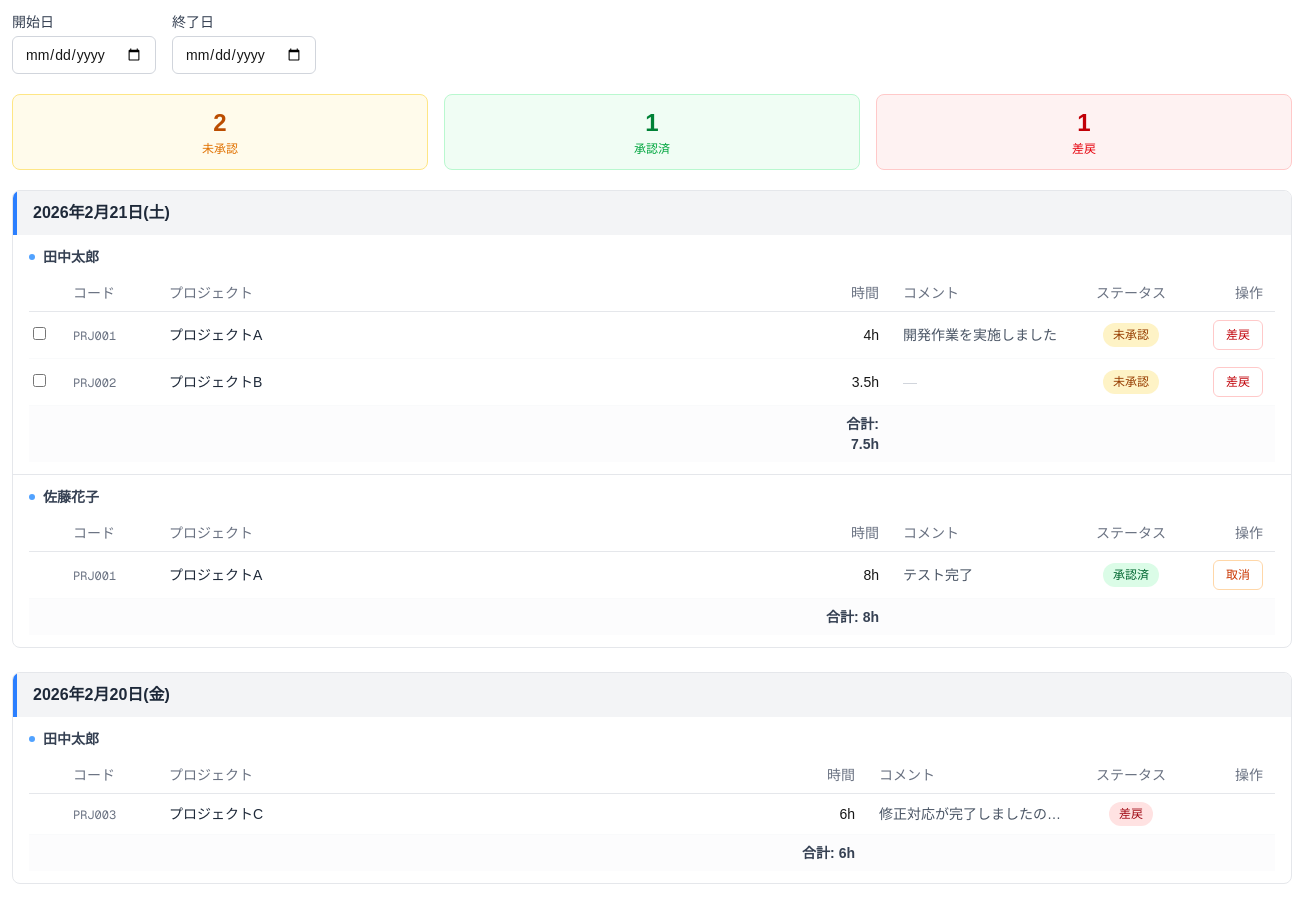
Test case: DailyApprovalDashboard › Floating Error Bar › shows error in floating bar when bulk approve fails
The image size is (1292, 912).
Click the 1st checkbox.
click(40, 334)  # box [33,327,46,340]
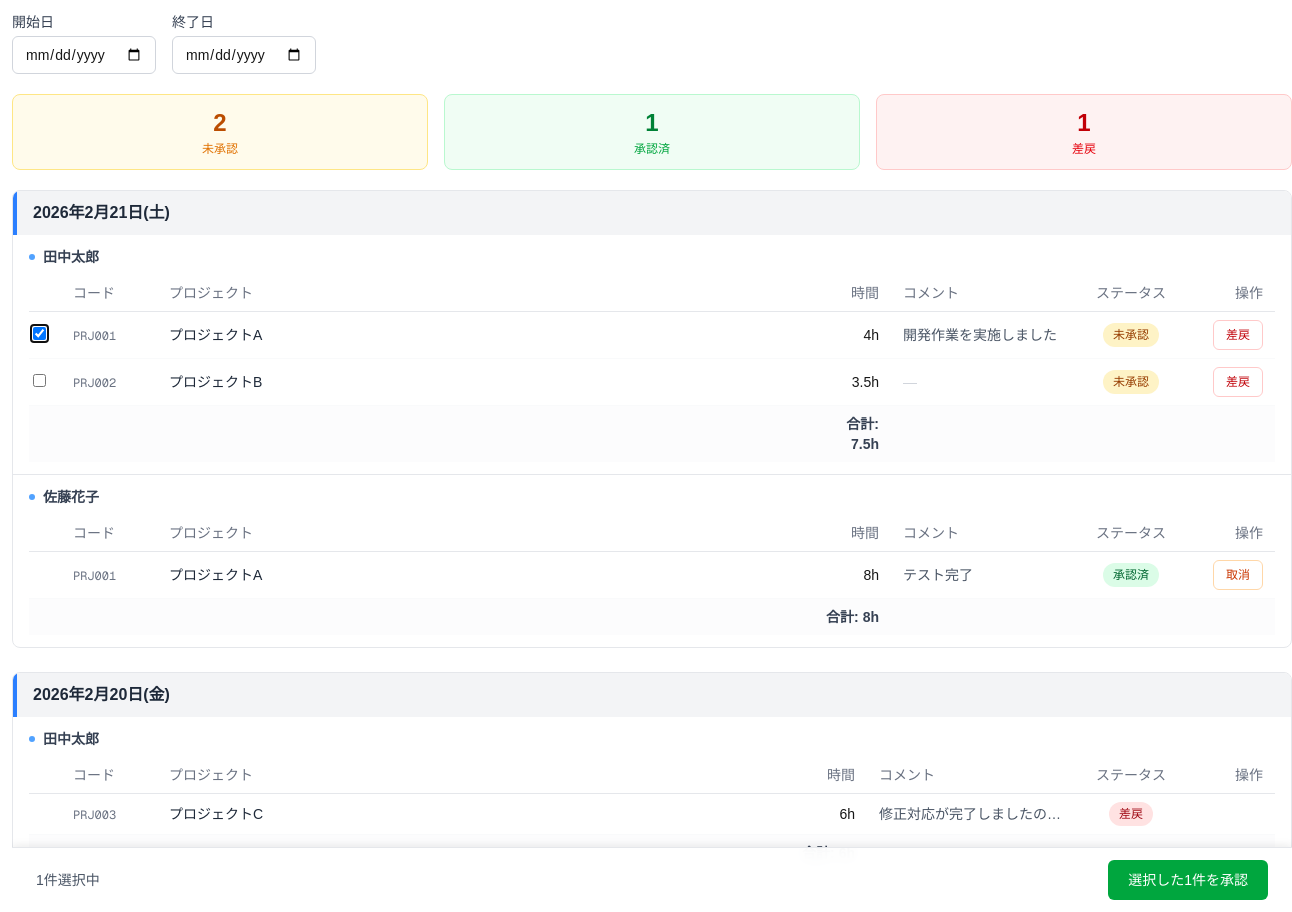
Click the button "選択した1件を承認".
click(1188, 880)  # box [1108,860,1268,900]
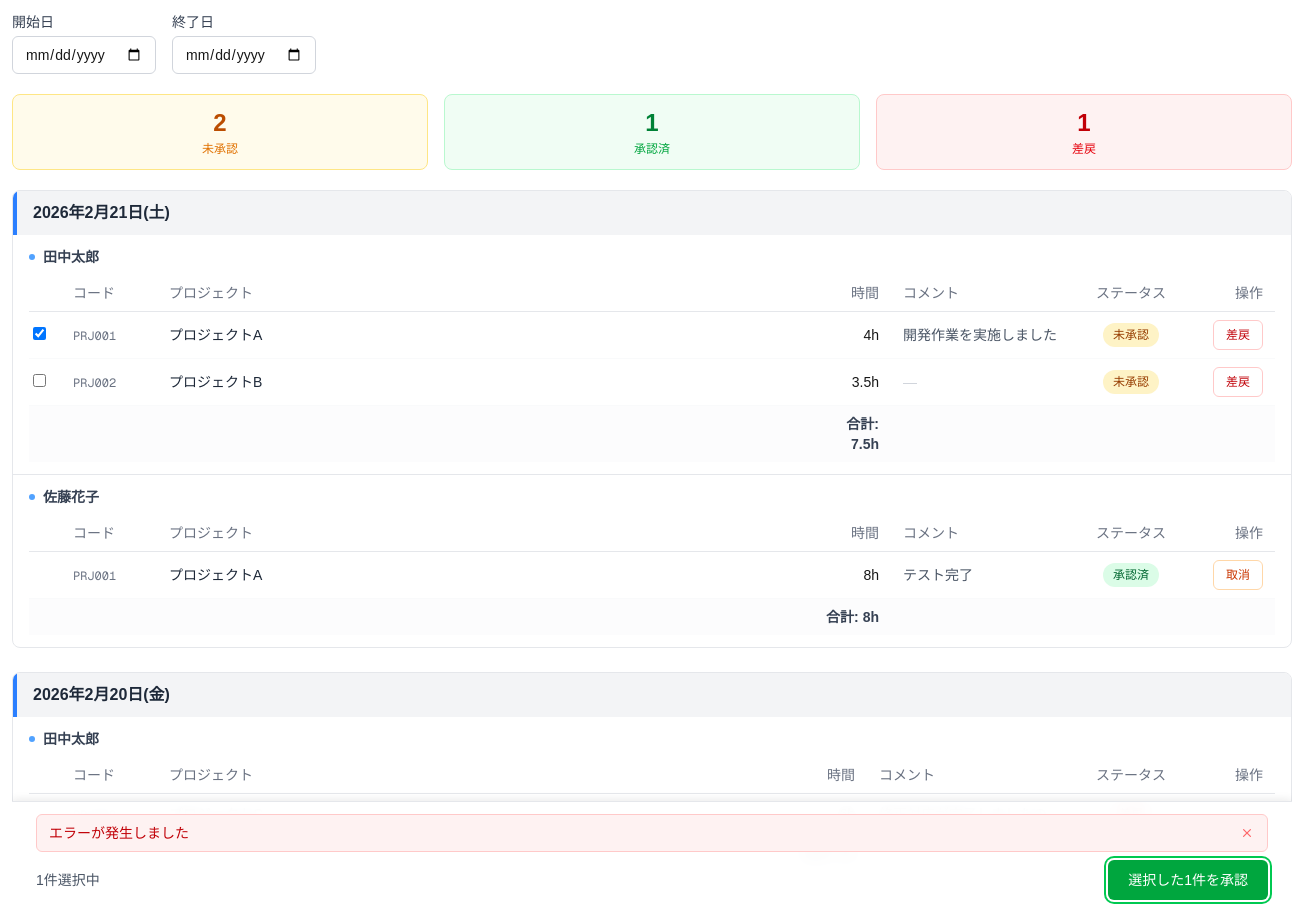
Result: the message "エラーが発生しました" is shown at [36,814,1268,852]
Result: the text "エラーが発生しました" is shown at [49,823,189,843]
